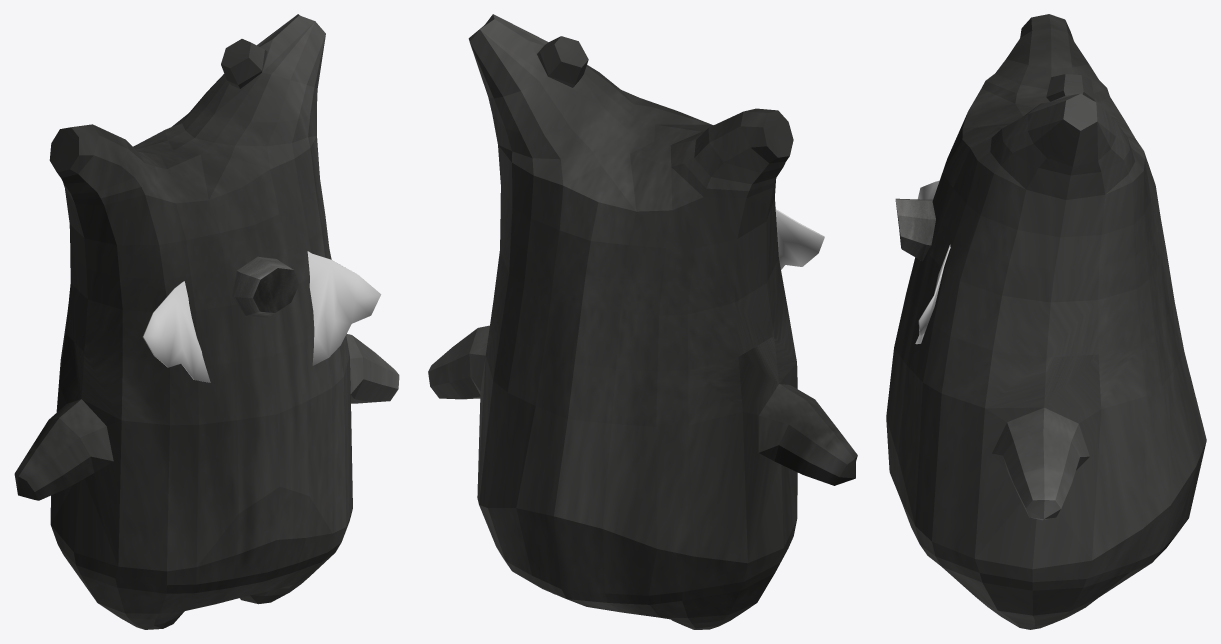
The model's file is frame_0073.obj.
3 views of the same model, side by side, from view 1: azimuth 30°, elevation 25°; view 2: azimuth 150°, elevation 25°; view 3: azimuth 270°, elevation 25° (orthographic). The views are drawn at different scales.
Visible parts, largest first — view 1: korok, leaf, nose; view 2: korok, leaf; view 3: korok, nose, leaf.
Boxes of the visible parts, x1,y1,x2,y2 form: korok: (14,14,399,629); leaf: (143,251,381,382); nose: (232,256,299,317); korok: (428,14,857,629); leaf: (775,209,824,269); korok: (886,14,1206,629); nose: (895,198,935,261); leaf: (915,180,950,344).
Size of the model in its own units: 1.68 by 2.26 by 1.17.
